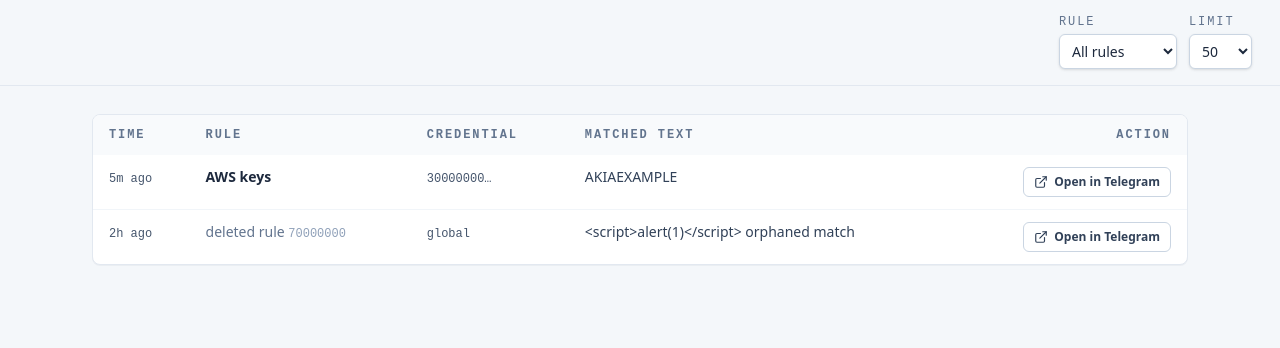
Test: WatchlistHitsView › reports a missing link on 404 without opening a window
Check: the cell "AWS keys" is shown, box 190,155 -> 411,210
What coordinates should you click on to do the following:
click the button "Open in Telegram" in the row of "5m ago"
I would click on:
 (1097, 182)
Its box is 1023,167 -> 1171,197.
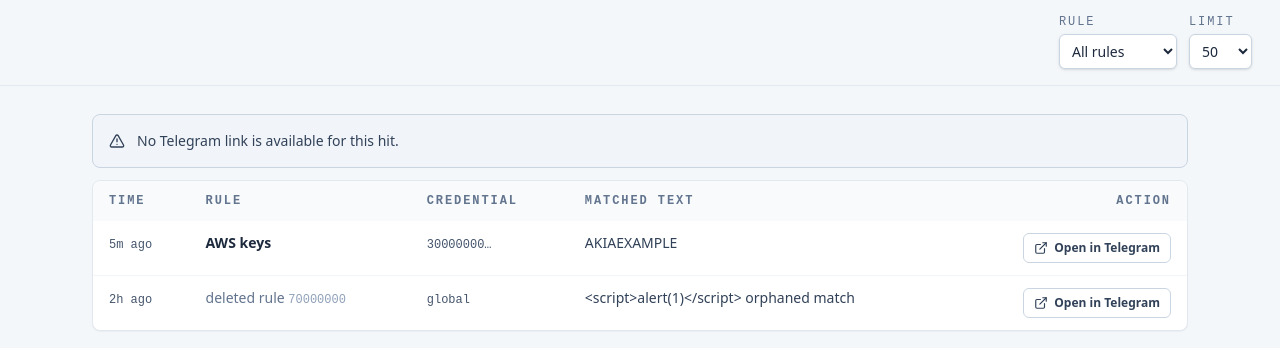
Check: the message reads "No Telegram link is available for this hit.", box 137,131 -> 399,150
